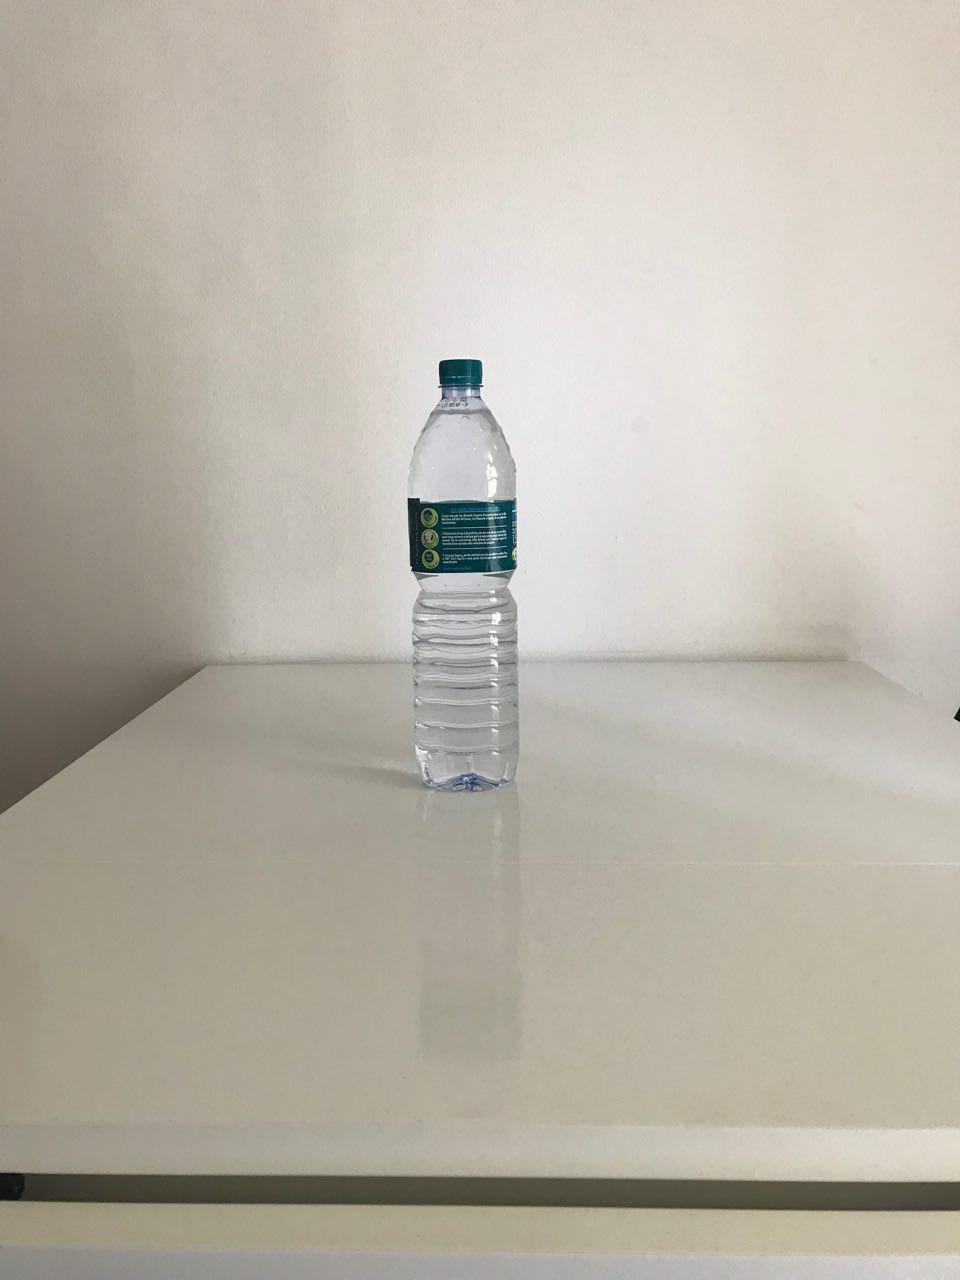san_bernardo: (404, 358, 523, 794)
